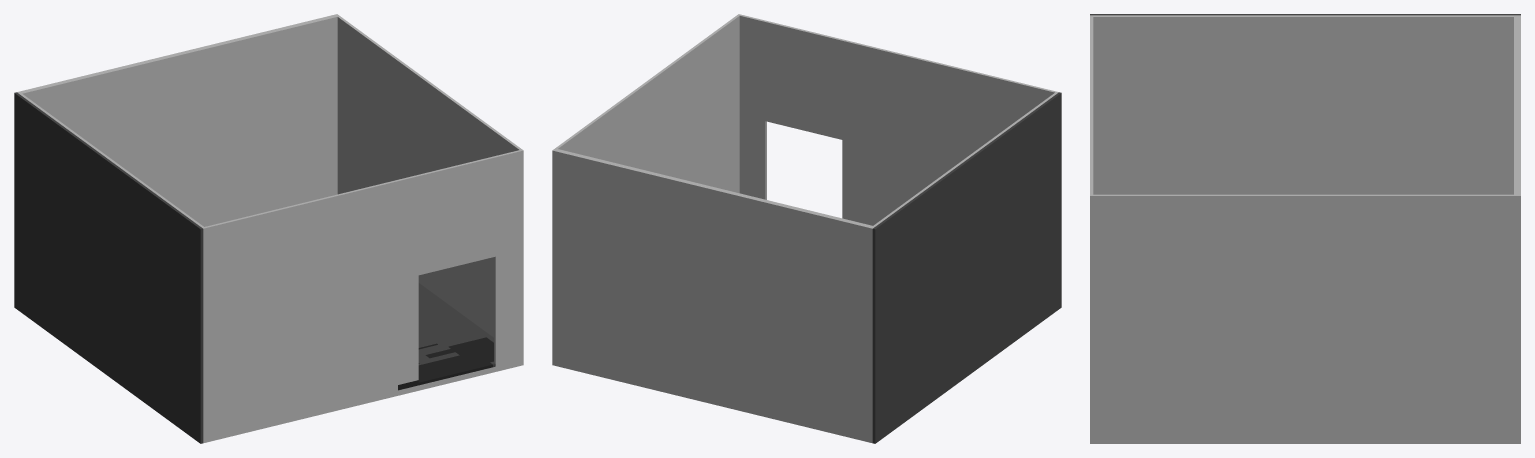
Rendered from 4x2 second (1)-3.obj.
3 views of the same model, side by side, from view 1: azimuth 30°, elevation 25°; view 2: azimuth 150°, elevation 25°; view 3: azimuth 270°, elevation 25° (orthographic). The views are drawn at different scales.
Visible parts, largest first — view 1: 4x2 second (1)-3; view 2: 4x2 second (1)-3; view 3: 4x2 second (1)-3.
Part boxes in pixels (x1=…): 4x2 second (1)-3: x1=14, y1=14, x2=523, y2=443; 4x2 second (1)-3: x1=552, y1=14, x2=1061, y2=443; 4x2 second (1)-3: x1=1090, y1=14, x2=1520, y2=443.
Size of the model in its own units: 126 by 80 by 126.
Materials: 1 (1 with a texture image).
